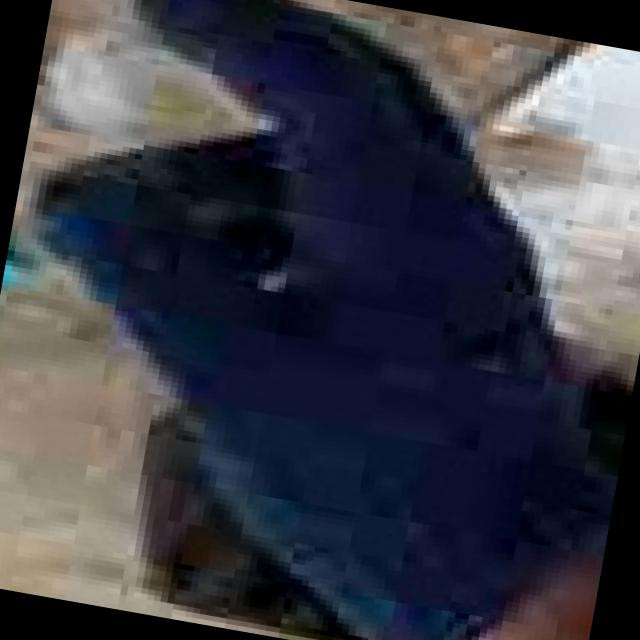vai_vun: (29, 0, 616, 640)
